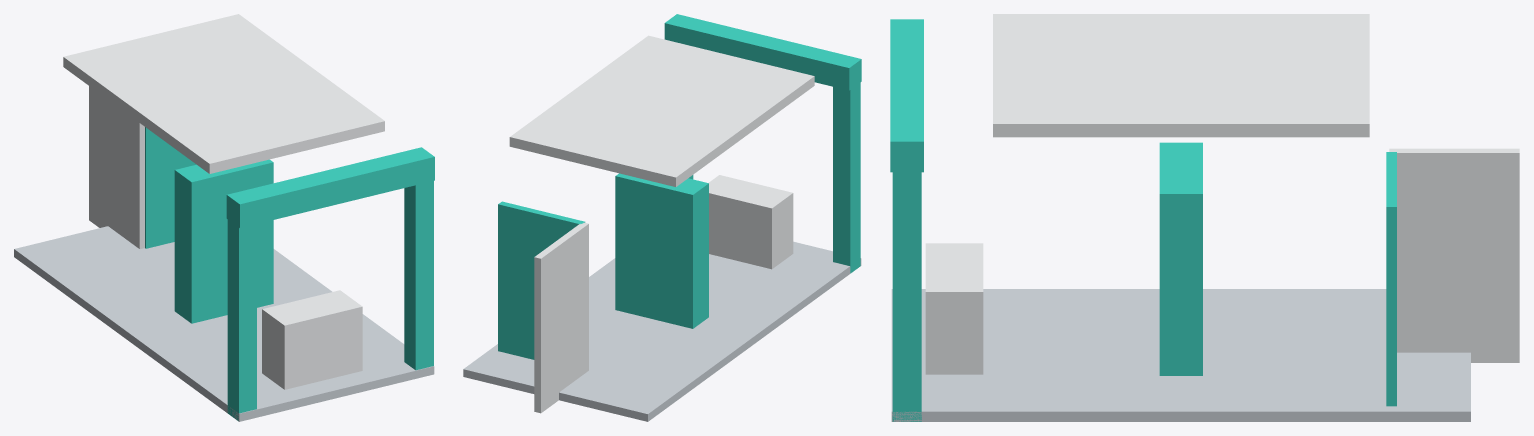
3 renders of one model, left to right at view 1: azimuth 30°, elevation 25°; view 2: azimuth 150°, elevation 25°; view 3: azimuth 270°, elevation 25°, orthographic. The views are drawn at different scales.
Parts seen in each view (by area): view 1: Exhibition Booth Concept; view 2: Exhibition Booth Concept; view 3: Exhibition Booth Concept.
Boxes of the visible parts, box(x1,y1,x2,y2) form: Exhibition Booth Concept: box(14, 14, 434, 421); Exhibition Booth Concept: box(463, 14, 861, 421); Exhibition Booth Concept: box(890, 14, 1519, 421).
Bounding box in the file's own units: 3 × 3.34 × 6.52.
